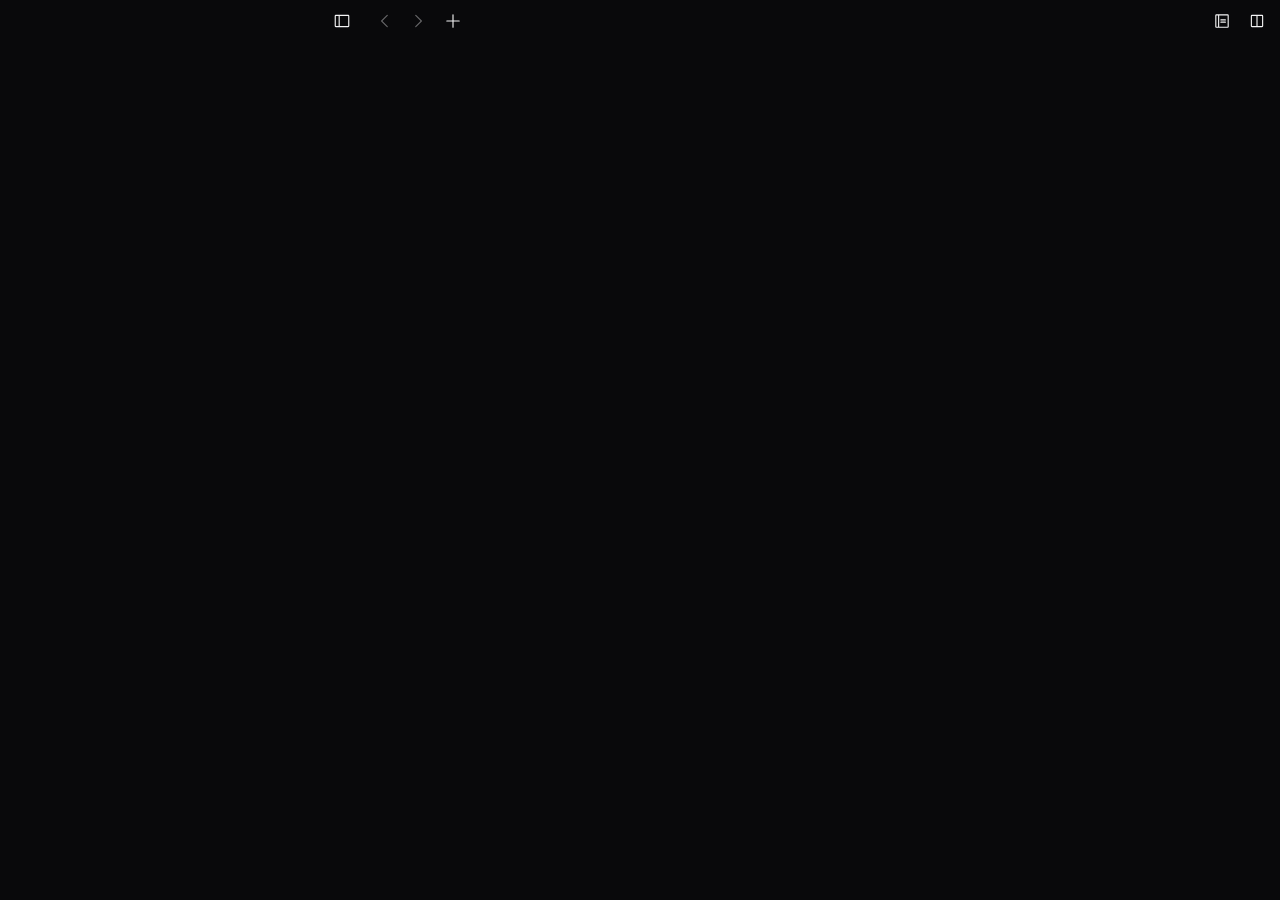
TopBar › Hide App Menu hides the space menu; a lone Alt tap shows it and another hides it
Later steps or results of the test are not shown.
Expected: the button named "Toggle sidebar" is shown, [327, 6, 358, 36]
Press Alt
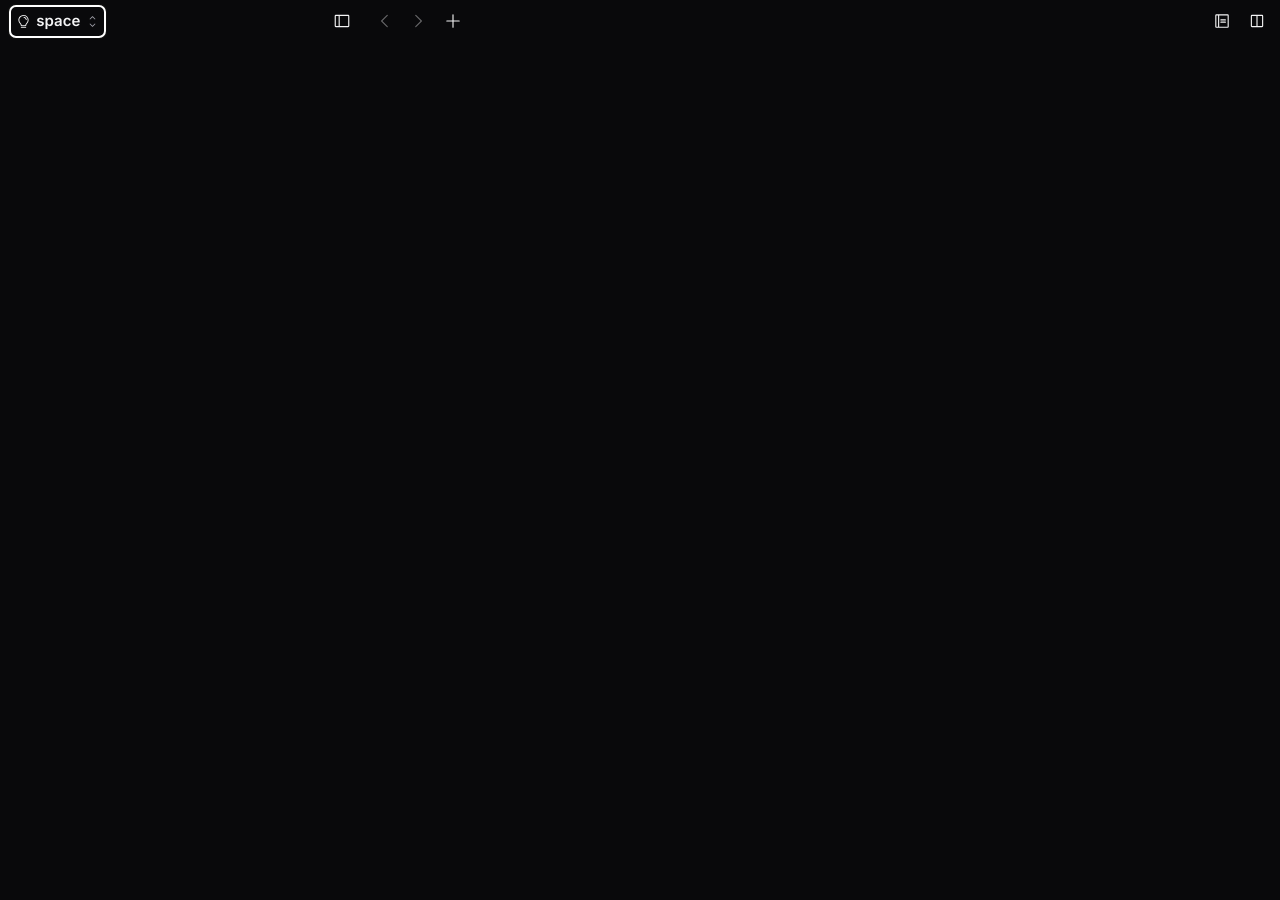
Click the button titled "Change space" at (57, 21), box [10, 6, 105, 36]
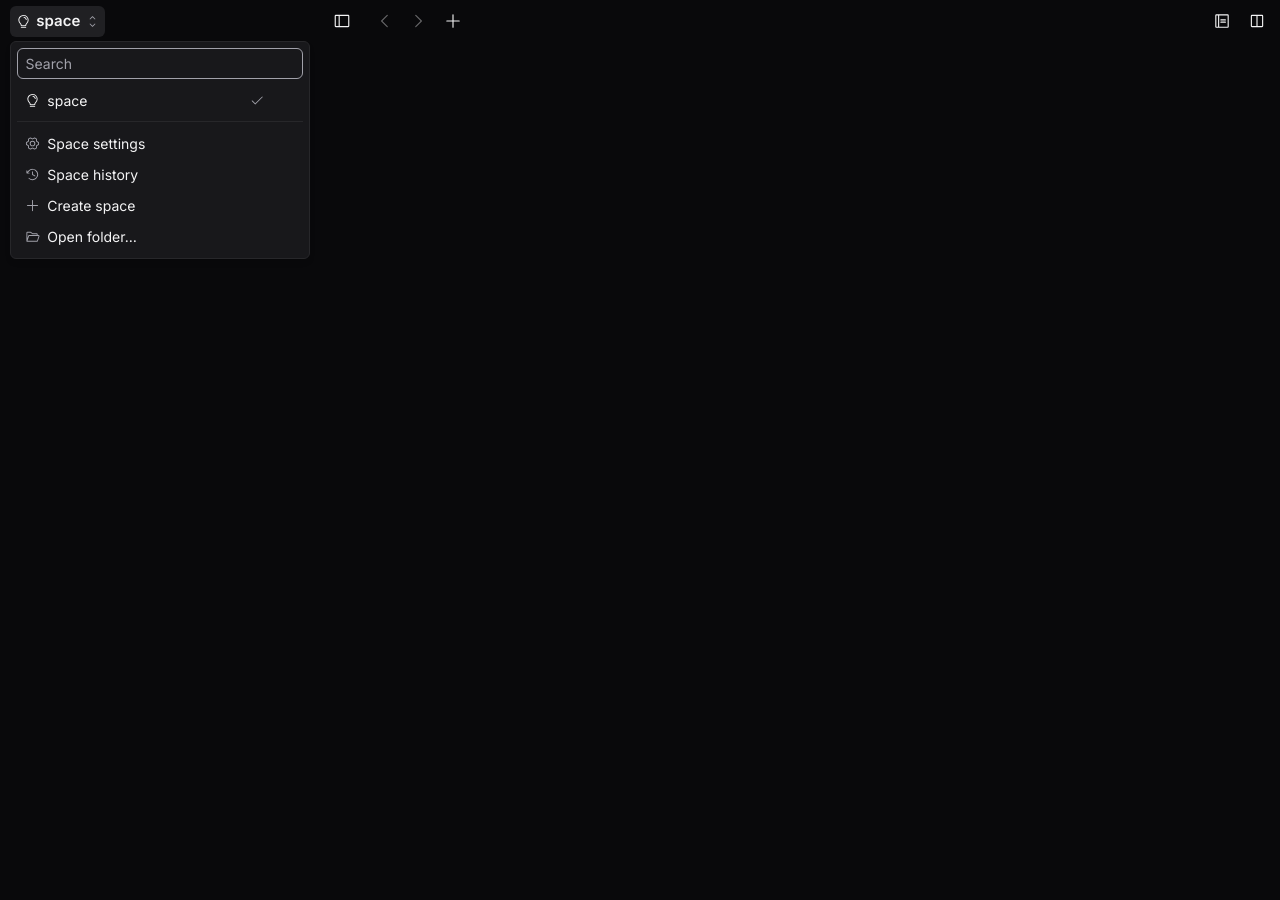
Now the list named "Spaces" is shown, box [17, 85, 303, 116]
